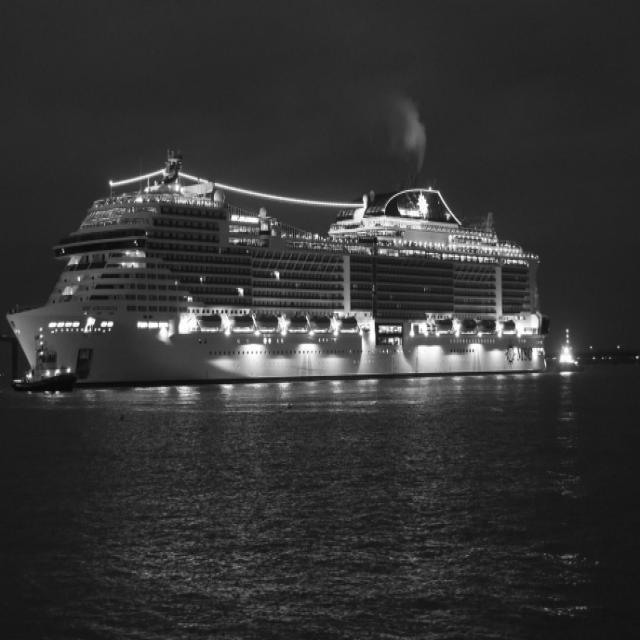cruises: (12, 141, 558, 388)
